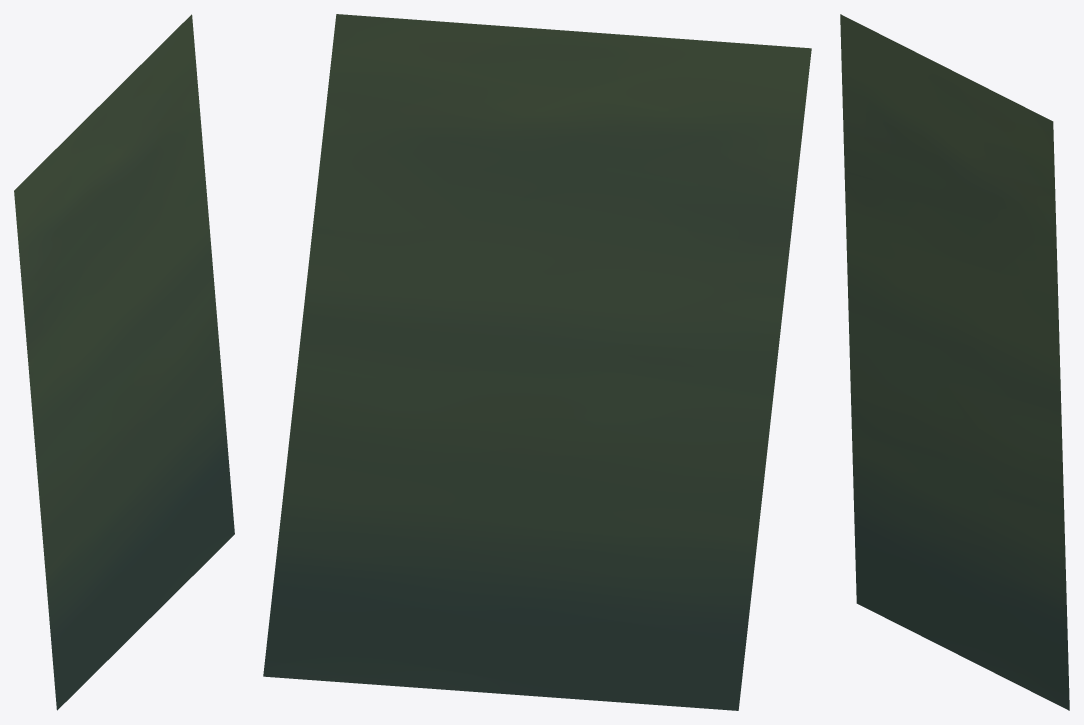
File: pplane82_lambert6_0_lev2.glb
3 renders of one model, left to right at view 1: azimuth 30°, elevation 25°; view 2: azimuth 150°, elevation 25°; view 3: azimuth 270°, elevation 25°, orthographic. The views are drawn at different scales.
Visible parts, largest first — view 1: pplane82_lambert6_0_lev2; view 2: pplane82_lambert6_0_lev2; view 3: pplane82_lambert6_0_lev2.
Boxes of the visible parts, left/top/right/bottom form: pplane82_lambert6_0_lev2: left=14, top=14, right=234, bottom=710; pplane82_lambert6_0_lev2: left=263, top=14, right=811, bottom=710; pplane82_lambert6_0_lev2: left=840, top=14, right=1069, bottom=710.
Bounding box in the file's own units: 0.1 × 0.1654 × 0.0575.
1 material, 1 textured.
